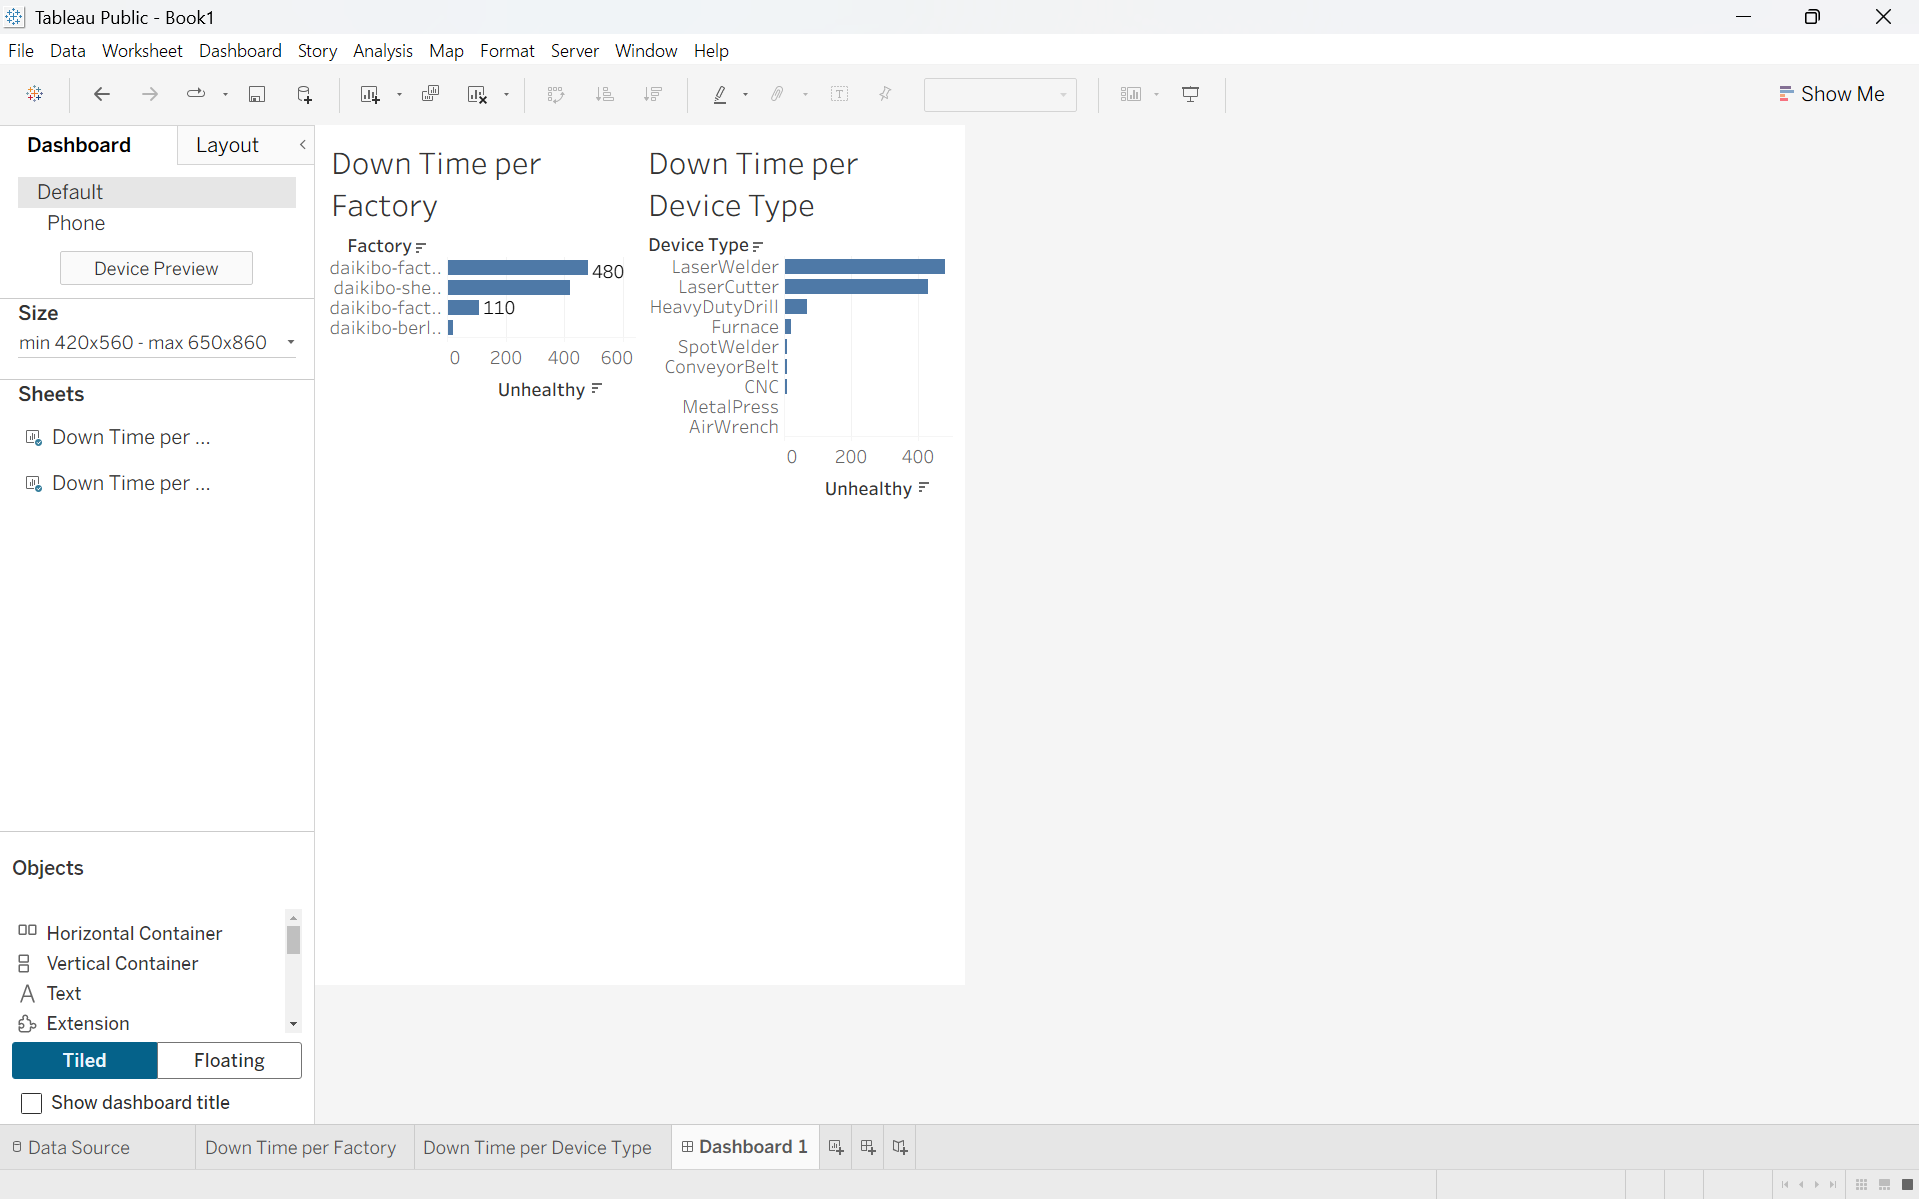

Layout of this report page (visuals, bound fields, positions):
{"tool":"tableau","page":{"name":"Dashboard 1","canvas":[650,860],"ordinal":0},"visuals":[{"type":"worksheet","title":"Down Time per Factory","mark":"Automatic","rows":["factory"],"cols":["Calculation_0389005075222528"],"box":[8,8,317,844]},{"type":"worksheet","title":"Down Time per Device Type","mark":"Bar","rows":["deviceType"],"cols":["Calculation_0389005075222528"],"box":[325,8,317,844]}]}

Visuals, with their boxes on the page's 650x860 design canvas (x1, y1, x2, y2). These are canvas units, not pixel positions in the 1919x1199 screenshot, which may show the page scaled, cropped or inside an application window:
"Down Time per Factory" worksheet: <region>8, 8, 325, 852</region>
"Down Time per Device Type" worksheet (Bar marks): <region>325, 8, 642, 852</region>
